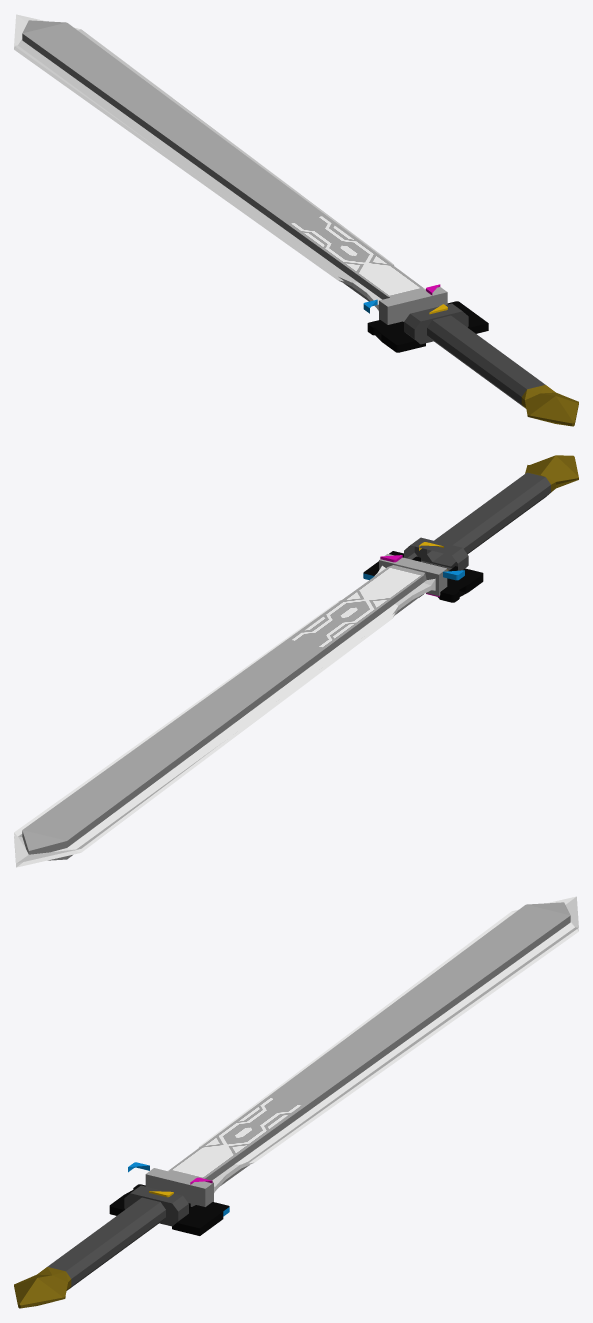
Rendered from GCGSword.fbx.
3 views of the same model, one above another, from view 1: azimuth 30°, elevation 25°; view 2: azimuth 150°, elevation 25°; view 3: azimuth 330°, elevation 25° (orthographic).
Parts seen in each view (by area): view 1: blade, Grip, Curve.001; view 2: blade, Grip, Curve.001; view 3: blade, Grip, Curve.001.
Boxes of the visible parts, <box> form: blade: <box>14,14,447,324</box>; Grip: <box>404,303,578,426</box>; Curve.001: <box>367,301,488,352</box>; blade: <box>14,554,447,867</box>; Grip: <box>404,455,578,571</box>; Curve.001: <box>363,551,483,602</box>; blade: <box>145,896,578,1206</box>; Grip: <box>14,1185,188,1308</box>; Curve.001: <box>109,1184,229,1235</box>.
Size of the model in its own units: 19.69 by 6.12 by 199.
12 materials, 1 textured.
